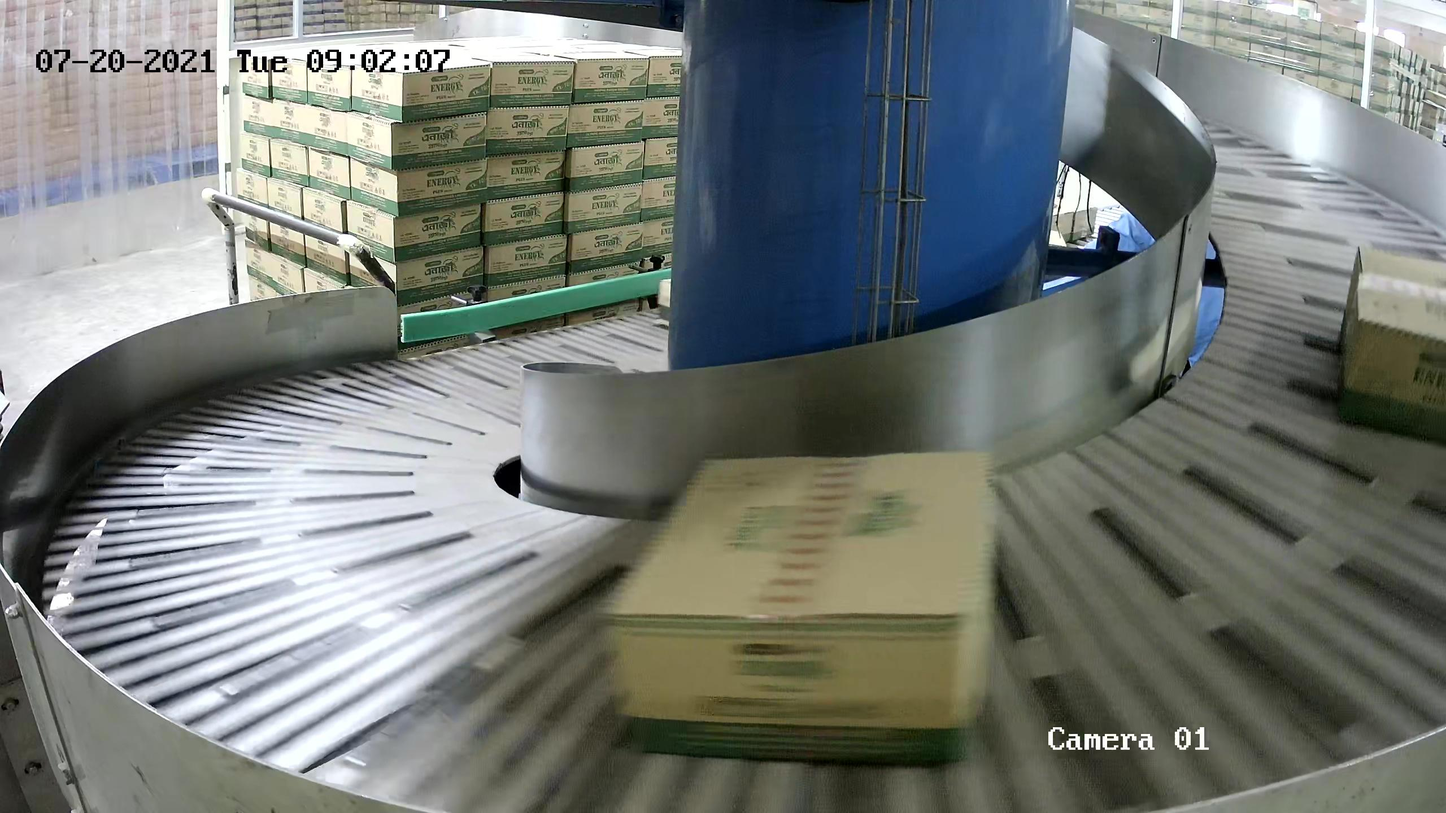Box: (605, 450, 1004, 763), (1335, 244, 1446, 454)
